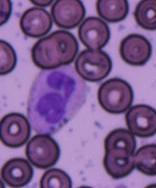N: (27, 65, 88, 133)
